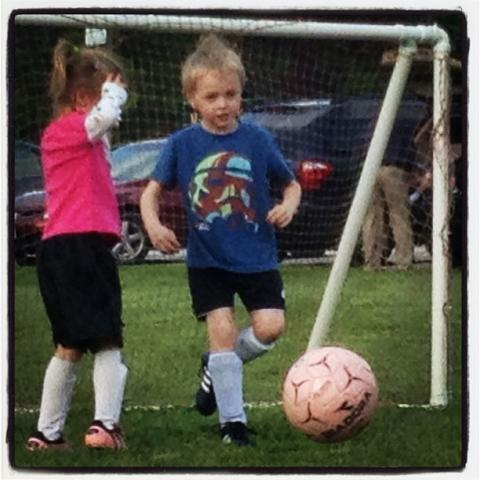car: (247, 101, 384, 253), (112, 142, 167, 262)
